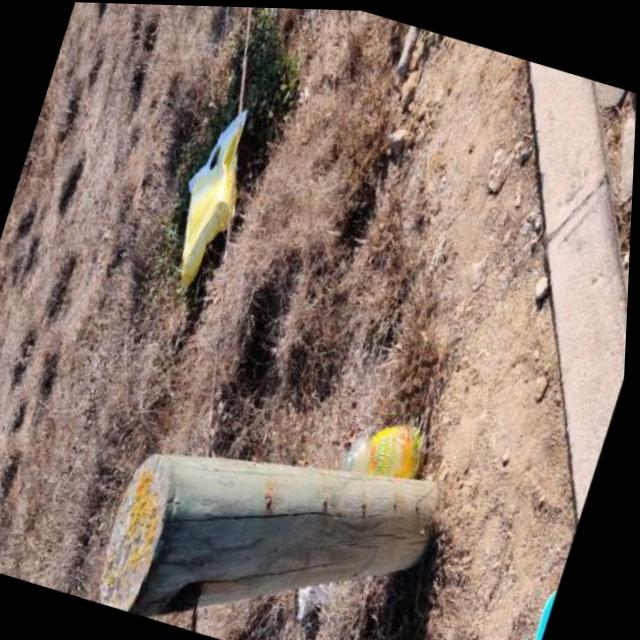plastic: (158, 96, 268, 300), (337, 407, 432, 498)
